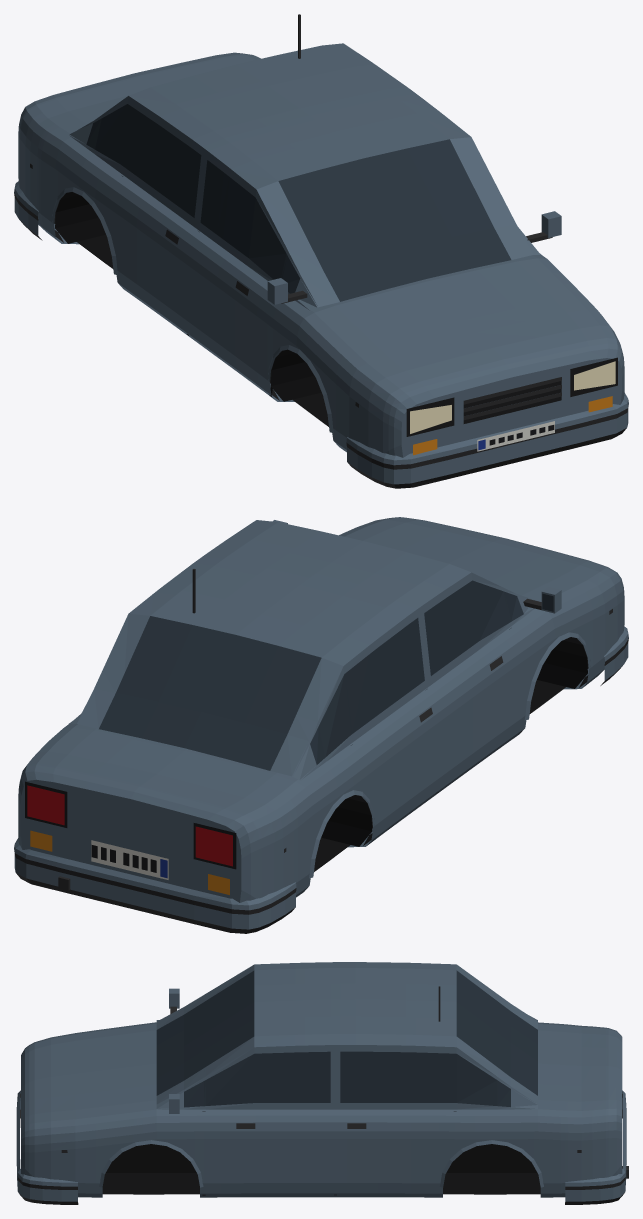
Rendered from marelo-sirio.glb.
The picture shows the model from 3 angles, top to bottom: view 1: azimuth 30°, elevation 25°; view 2: azimuth 150°, elevation 25°; view 3: azimuth 270°, elevation 25°; orthographic projection. The views are drawn at different scales.
Visible parts, largest first — view 1: LOD0, door_FR, door_RR; view 2: LOD0, door_FR, door_RR; view 3: LOD0, door_FL, door_RL.
Part boxes in pixels (<box>): LOD0: <box>14,14,628,488</box>; door_FR: <box>185,152,288,392</box>; door_RR: <box>108,96,201,331</box>; LOD0: <box>14,517,628,933</box>; door_FR: <box>423,572,524,789</box>; door_RR: <box>344,609,439,839</box>; LOD0: <box>16,962,628,1204</box>; door_FL: <box>204,1045,333,1193</box>; door_RL: <box>337,1045,454,1193</box>.
Size of what is drawn, in the model's own units: 1.93 by 1.55 by 4.53.
